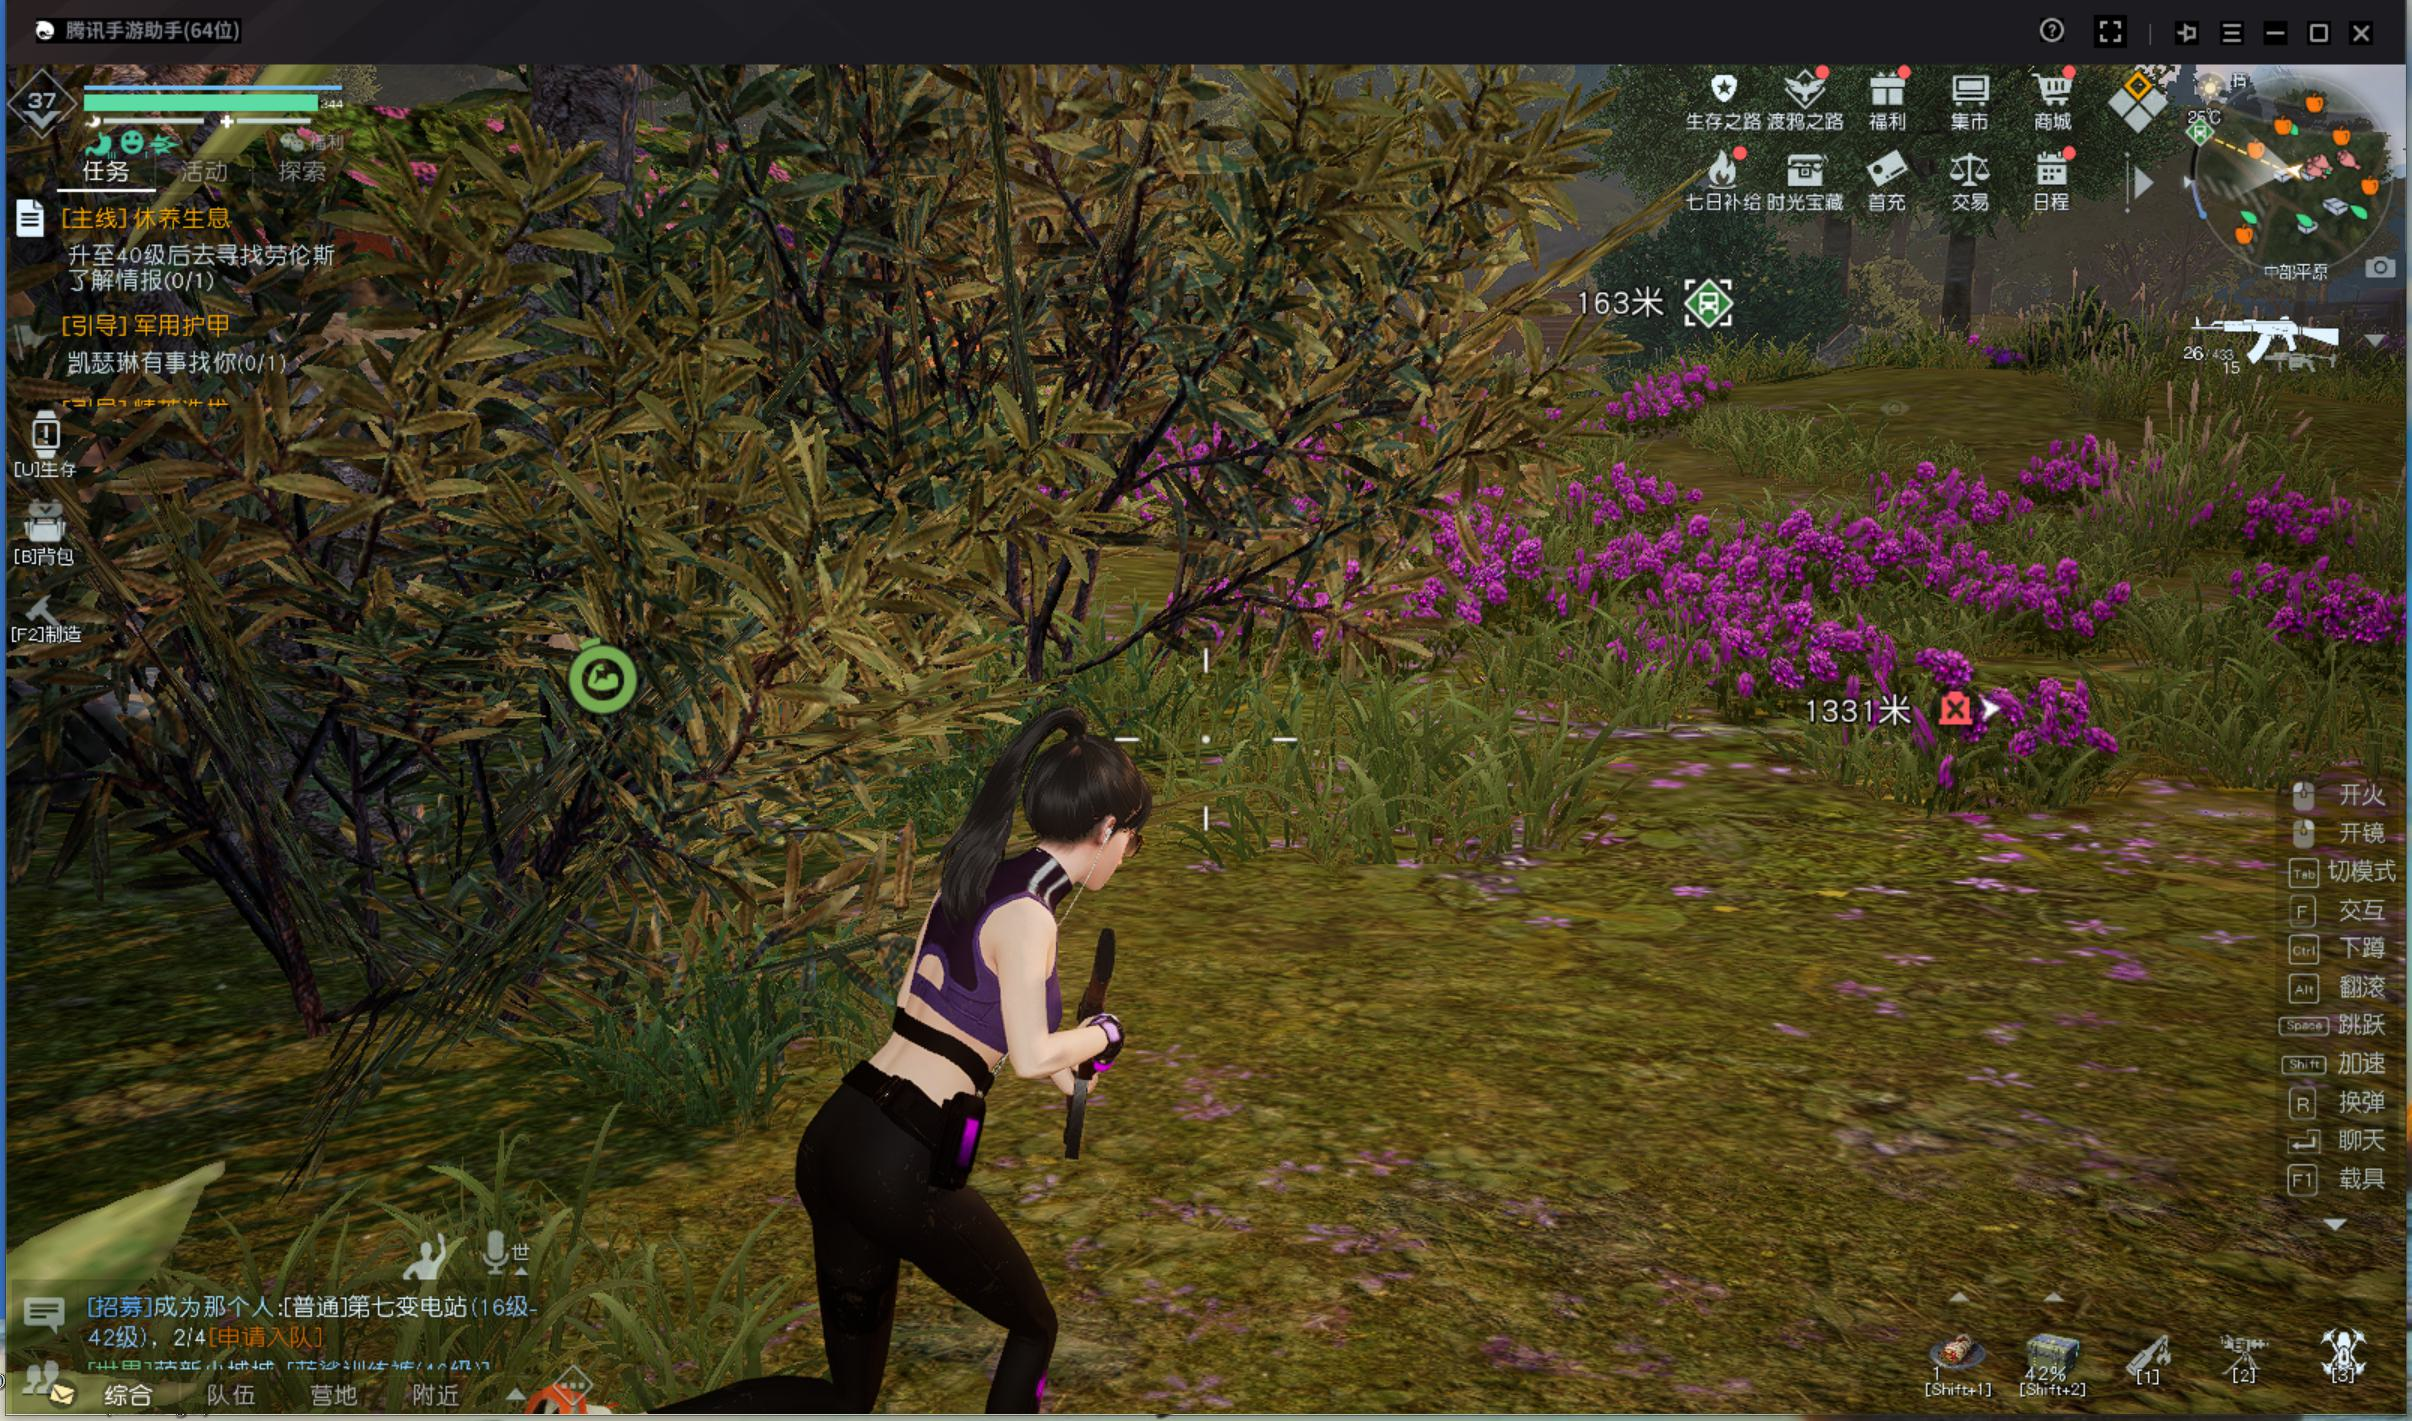tree: (1927, 237, 1993, 354)
